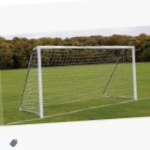goals: (18, 42, 140, 119)
